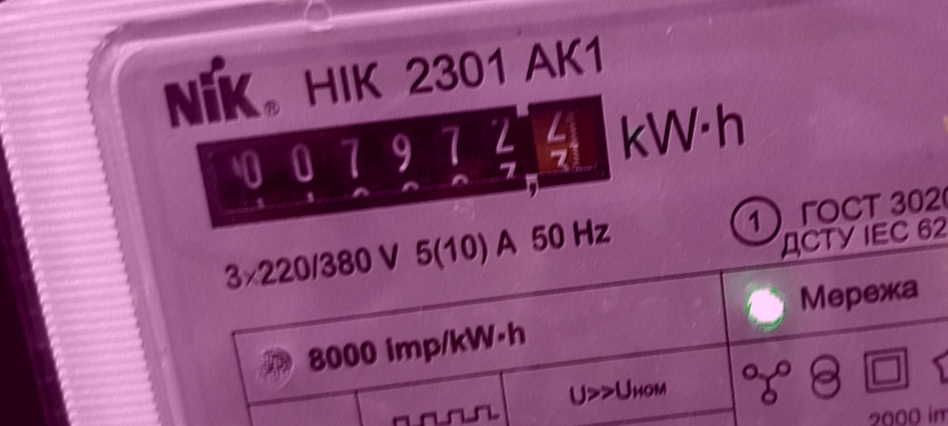0: (236, 148, 266, 192), (287, 141, 316, 185)
2: (489, 116, 516, 157), (540, 110, 566, 146)
3: (546, 148, 571, 175)
7: (437, 122, 467, 171), (336, 135, 365, 182)
9: (387, 130, 414, 175)
screen: (177, 82, 629, 246)
